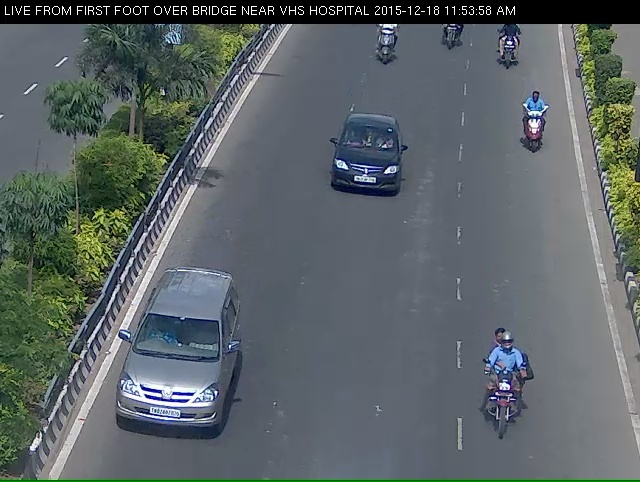Car: (101, 282, 229, 453), (325, 122, 406, 215)
Person: (473, 352, 534, 469), (367, 19, 404, 77), (491, 18, 524, 83), (515, 96, 547, 161)
